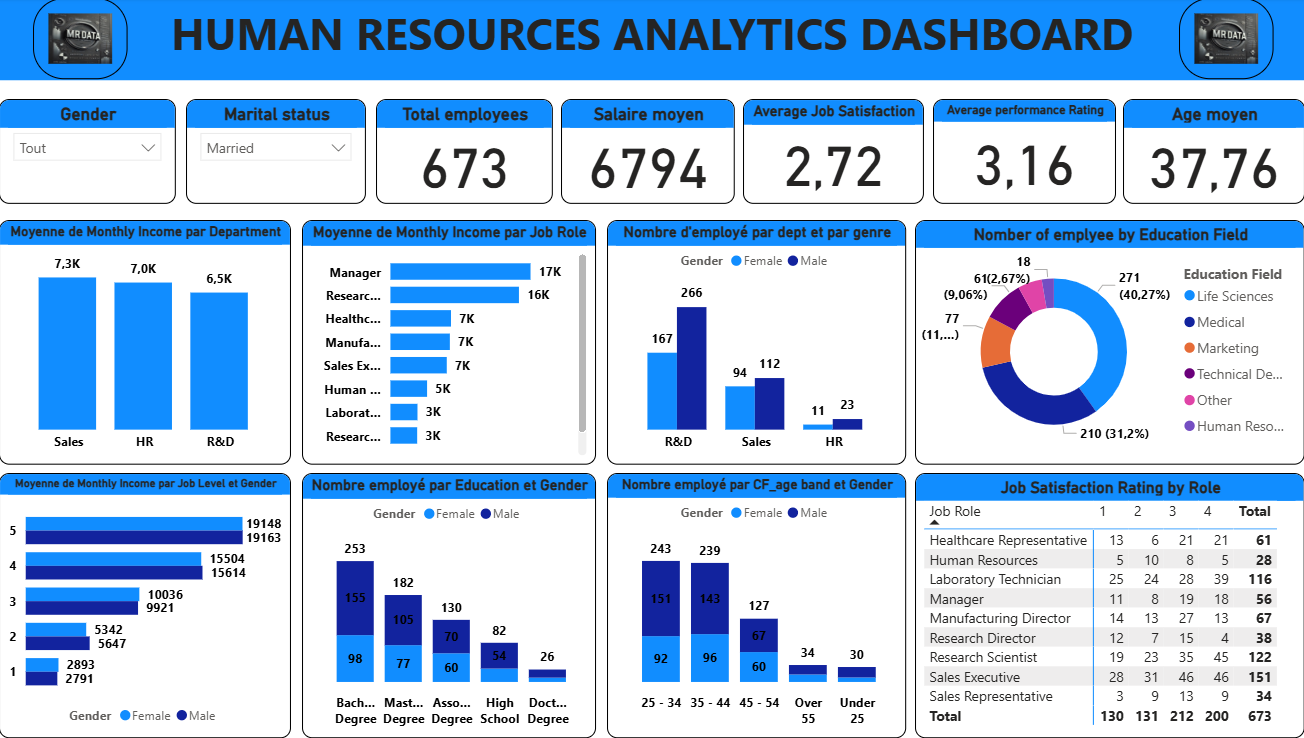

The page's visual inventory and layout, read from the dashboard file:
{"tool":"powerbi","page":{"name":"Gestion des resources humaines","canvas":[1280,720],"ordinal":0},"visuals":[{"type":"textbox","box":[9.7,0,1270.3,79.8],"z":0},{"type":"slicer","title":"Gender","fields":{"Values":["HR data.Gender"]},"box":[10.2,98.6,171.8,101.7],"z":1000},{"type":"slicer","title":"Marital status","fields":{"Values":["HR data.Marital Status"]},"box":[191.1,98.6,174.9,101.7],"z":3000},{"type":"card","title":"Total employees","fields":{"Values":["HR data.Nombre employé"]},"box":[376.2,98.6,171.8,101.7],"z":4000},{"type":"card","title":"Salaire moyen","fields":{"Values":["Avg(HR data.Monthly Income)"]},"box":[556.1,98.6,168.8,101.7],"z":5000},{"type":"card","title":"Average Job Satisfaction","fields":{"Values":["Avg(HR data.Job Satisfaction)"]},"box":[733,98.6,175.9,101.7],"z":6000},{"type":"card","title":"Average performance Rating","fields":{"Values":["Avg(HR data.Performance Rating)"]},"box":[918.1,98.6,177.9,101.7],"z":7000},{"type":"card","title":"Age moyen","fields":{"Values":["Avg(HR data.Age)"]},"box":[1103.1,98.6,176.9,101.7],"z":8000},{"type":"columnChart","fields":{"Category":["HR data.Department"],"Y":["Avg(HR data.Monthly Income)"]},"box":[10.2,215.5,283.7,237.9],"z":9000},{"type":"barChart","fields":{"Y":["Avg(HR data.Monthly Income)"],"Category":["HR data.Job Role"]},"box":[304,215.5,285.7,237.9],"z":9001},{"type":"clusteredColumnChart","title":"Nombre d''employé par dept et par  genre","fields":{"Category":["HR data.Department"],"Y":["CountNonNull(HR data.emp no)"],"Series":["HR data.Gender"]},"box":[600.9,215.5,290.8,237.9],"z":9002},{"type":"donutChart","title":"Nomber of emplyee by Education Field","fields":{"Y":["CountNonNull(HR data.emp no)"],"Category":["HR data.Education Field"]},"box":[900.8,215.5,379.2,237.9],"z":9003},{"type":"clusteredBarChart","fields":{"Y":["Avg(HR data.Monthly Income)"],"Category":["HR data.Job Level"],"Series":["HR data.Gender"]},"box":[10.2,461.6,283.7,258.2],"z":9004},{"type":"columnChart","fields":{"Category":["HR data.Education"],"Y":["HR data.Nombre employé"],"Series":["HR data.Gender"]},"box":[304,461.6,285.7,258.2],"z":9005},{"type":"columnChart","fields":{"Y":["HR data.Nombre employé"],"Series":["HR data.Gender"],"Category":["HR data.CF_age band"]},"box":[600.9,461.6,290.8,258.2],"z":9006},{"type":"pivotTable","title":"Job Satisfaction Rating by Role","fields":{"Rows":["HR data.Job Role"],"Columns":["HR data.Job Satisfaction"],"Values":["HR data.Nombre employé"]},"box":[900.8,461.6,379.2,258.2],"z":9007},{"type":"image","box":[42.7,0,91.5,79.3],"z":9008},{"type":"image","box":[1157,0,91.5,79.3],"z":9009}]}

Visuals, with their boxes in screenshot pixels (x1, y1, x2, y2), scaled from the page's 1280x720 canvas onto the 1304x738 screenshot:
textbox: (left=10, top=0, right=1303, bottom=82)
"Gender" slicer: (left=10, top=101, right=185, bottom=205)
"Marital status" slicer: (left=195, top=101, right=373, bottom=205)
"Total employees" card: (left=383, top=101, right=558, bottom=205)
"Salaire moyen" card: (left=567, top=101, right=738, bottom=205)
"Average Job Satisfaction" card: (left=747, top=101, right=926, bottom=205)
"Average performance Rating" card: (left=935, top=101, right=1117, bottom=205)
"Age moyen" card: (left=1124, top=101, right=1303, bottom=205)
columnChart - HR data.Department x Avg(HR data.Monthly Income): (left=10, top=221, right=299, bottom=465)
barChart - Avg(HR data.Monthly Income) x HR data.Job Role: (left=310, top=221, right=601, bottom=465)
"Nombre d''employé par dept et par  genre" clusteredColumnChart: (left=612, top=221, right=908, bottom=465)
"Nomber of emplyee by Education Field" donutChart: (left=918, top=221, right=1303, bottom=465)
clusteredBarChart - Avg(HR data.Monthly Income) x HR data.Job Level: (left=10, top=473, right=299, bottom=737)
columnChart - HR data.Education x HR data.Nombre employé: (left=310, top=473, right=601, bottom=737)
columnChart - HR data.Nombre employé x HR data.Gender: (left=612, top=473, right=908, bottom=737)
"Job Satisfaction Rating by Role" pivotTable: (left=918, top=473, right=1303, bottom=737)
image: (left=44, top=0, right=137, bottom=81)
image: (left=1179, top=0, right=1272, bottom=81)
